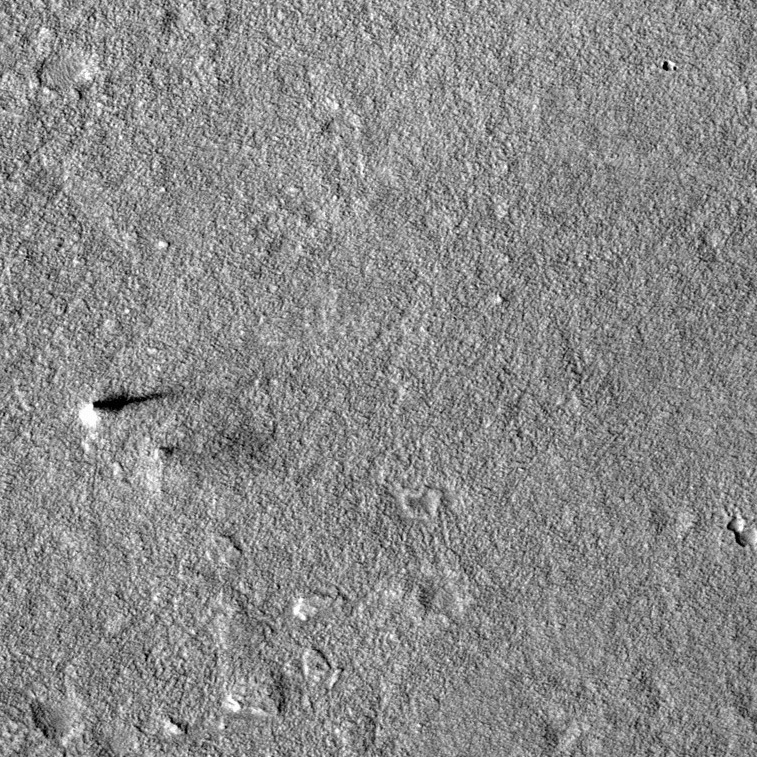dust_devil: (76, 383, 195, 432)
